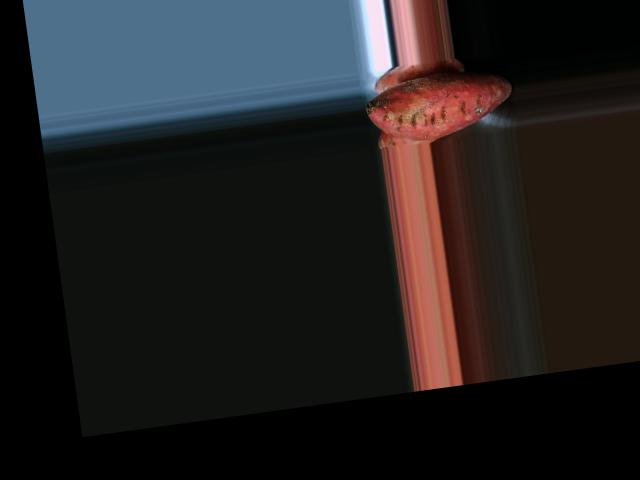sweet_potato: (363, 70, 515, 142)
